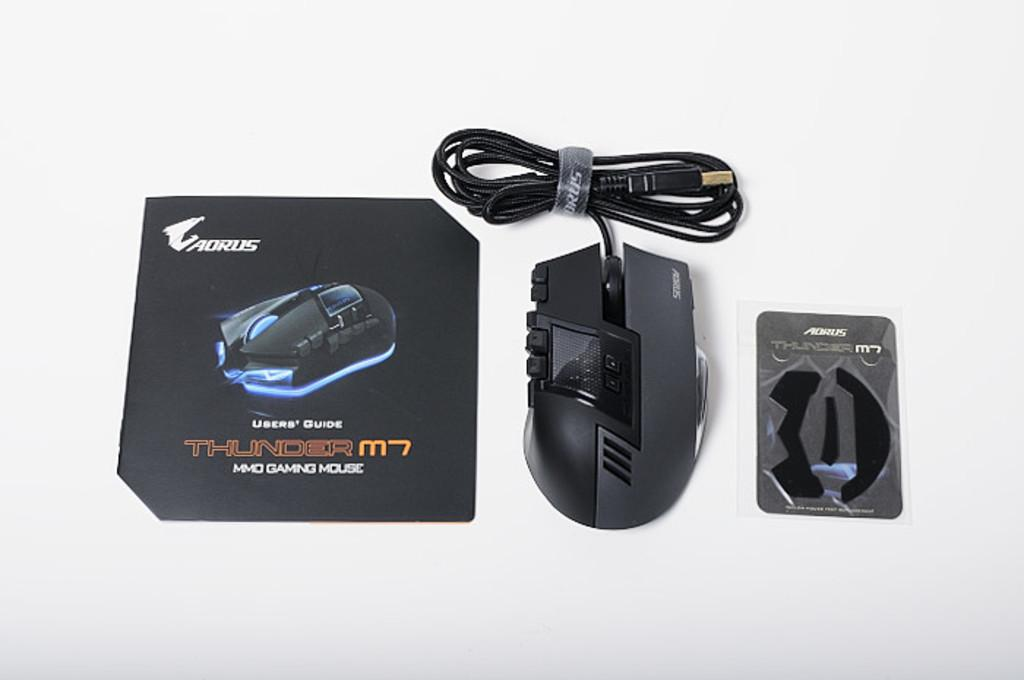Computer-mouse: (518, 241, 708, 528)
